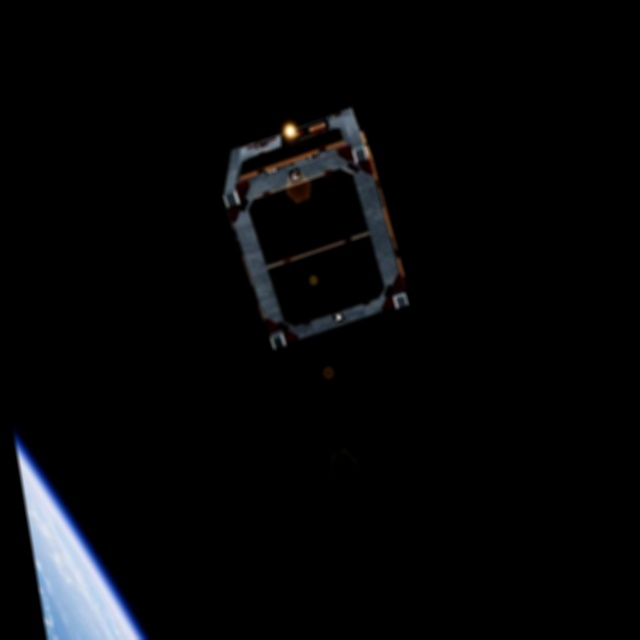satellite: (192, 89, 419, 369)
